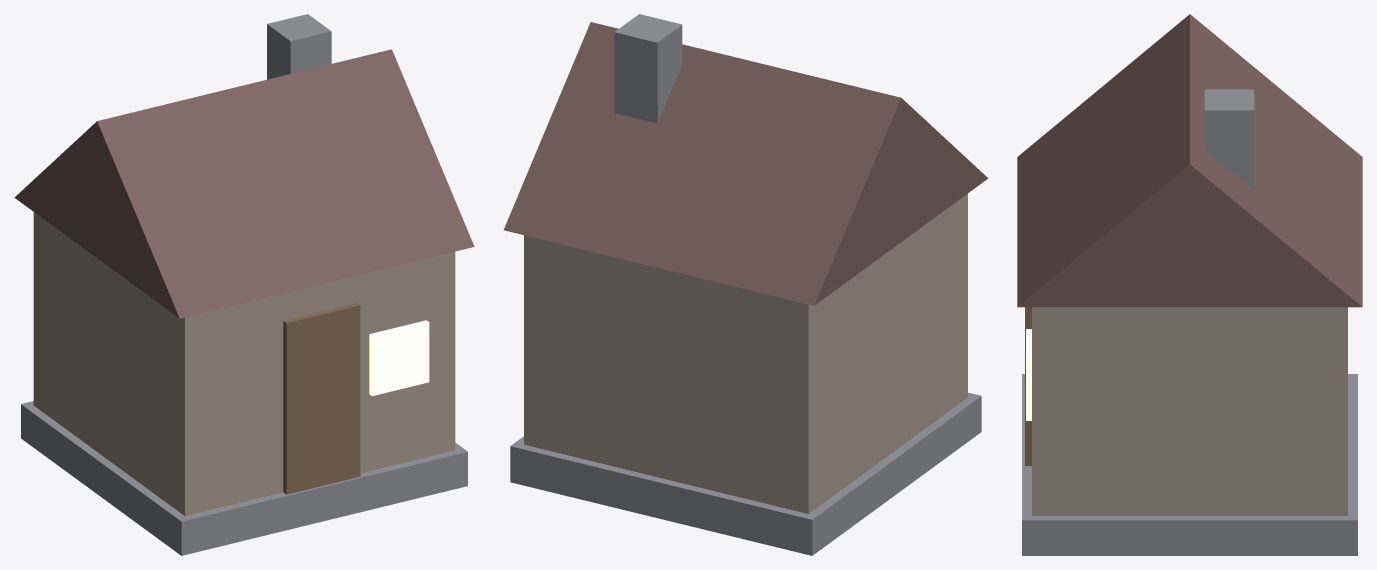
Rendered from house_a.glb.
3 views of the same model, side by side, from view 1: azimuth 30°, elevation 25°; view 2: azimuth 150°, elevation 25°; view 3: azimuth 270°, elevation 25° (orthographic). The views are drawn at different scales.
Visible parts, largest first — view 1: house_a; view 2: house_a; view 3: house_a.
Boxes of the visible parts, left/top/right/bottom form: house_a: left=14, top=14, right=474, bottom=555; house_a: left=503, top=14, right=988, bottom=555; house_a: left=1017, top=14, right=1362, bottom=555.
Size of the model in its own units: 3.6 by 4.7 by 3.5.
